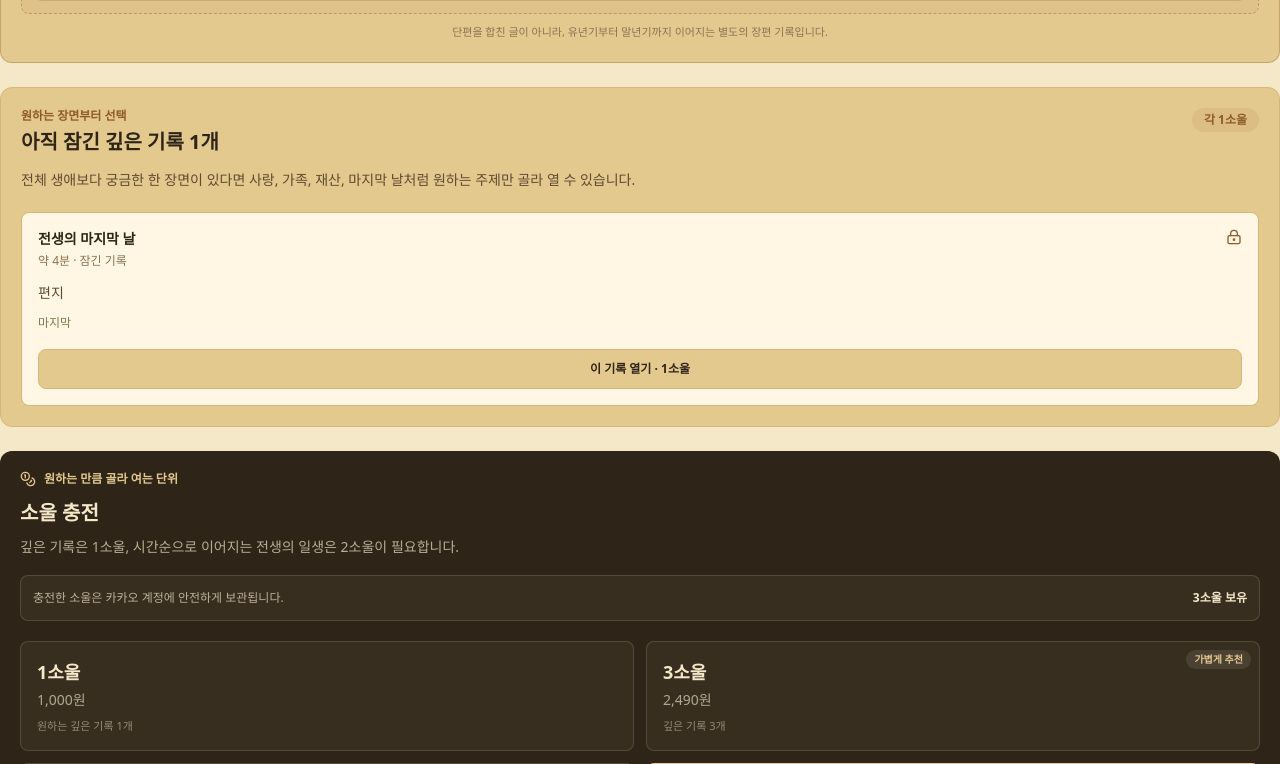
it: ResultView › shows a visible retry dialog when a record cannot be opened
(page scrolled)
Click the button "이 기록 열기 · 1소울": (640, 369) [38,349,1242,389]
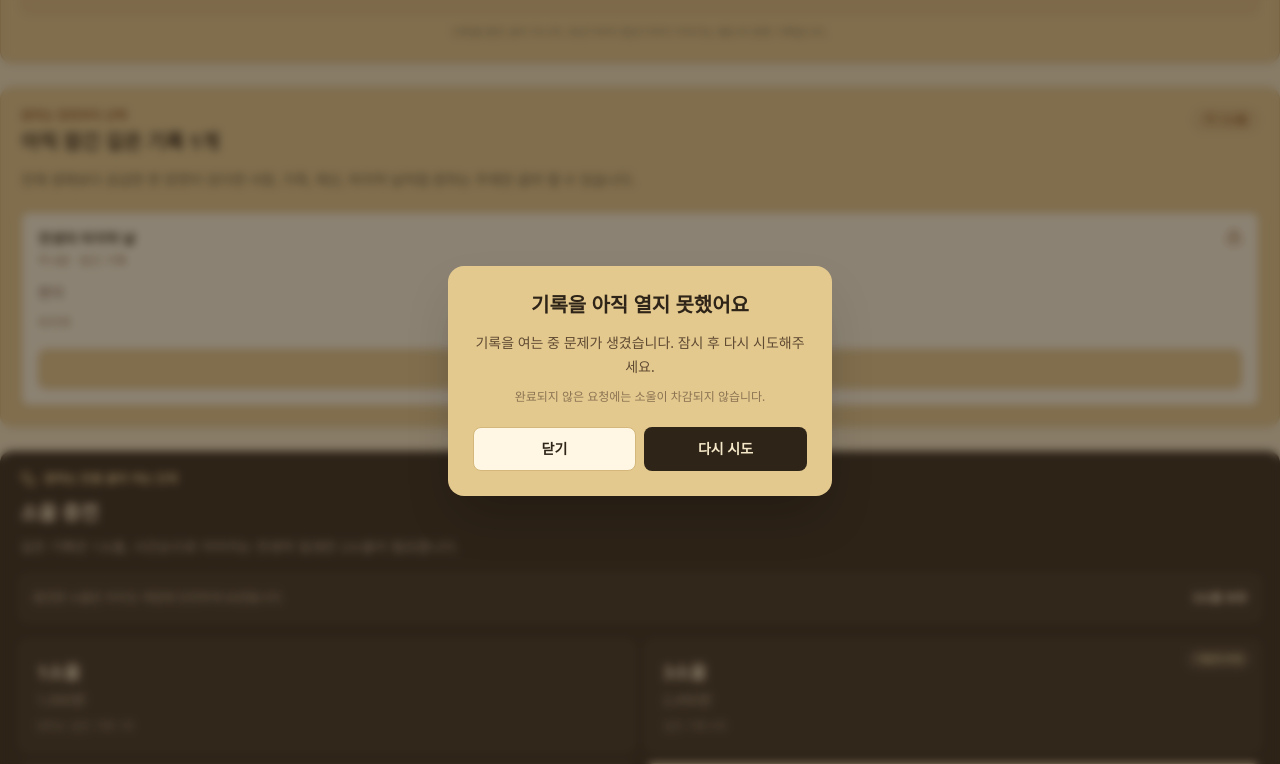
Now the dialog named "전생 기록 열기 오류" shows "완료되지 않은 요청에는 소울이 차감되지 않습니다.", box [515,388,765,405]
Now the button "다시 시도" is shown, box [644,427,807,471]
